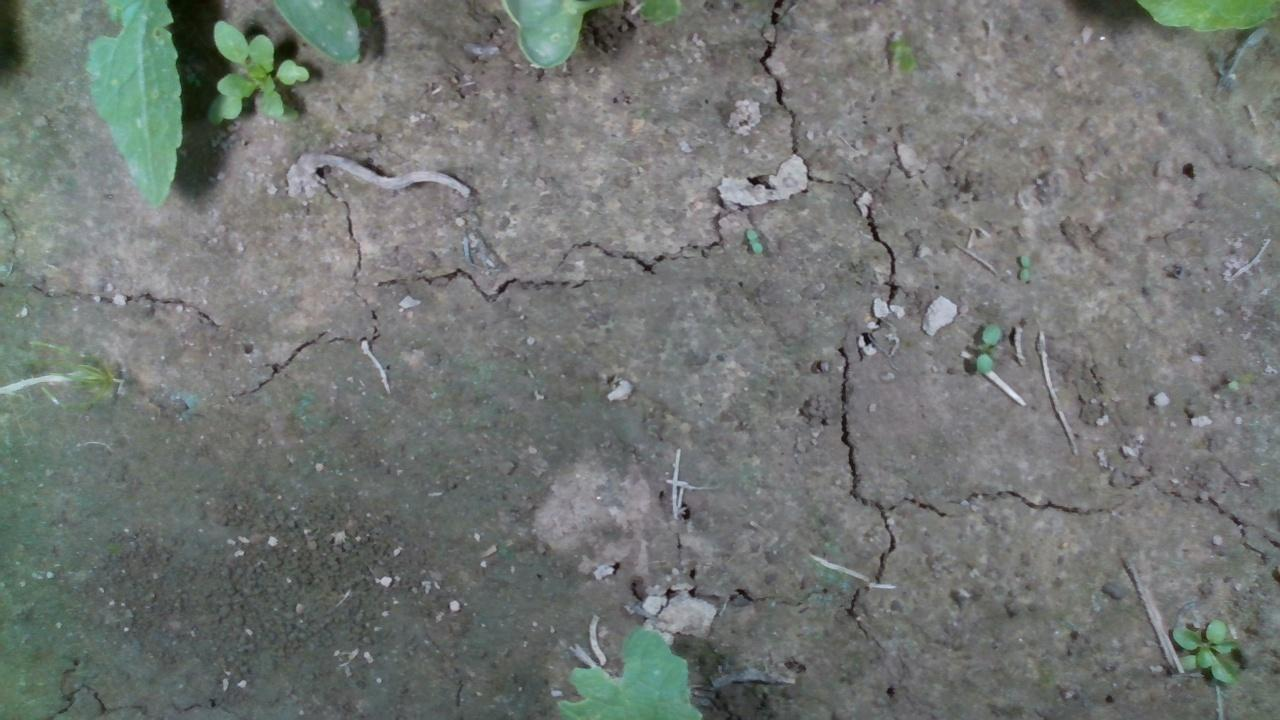weed: (1169, 615, 1238, 683), (974, 320, 1001, 374), (744, 227, 763, 255), (1016, 251, 1028, 281)
